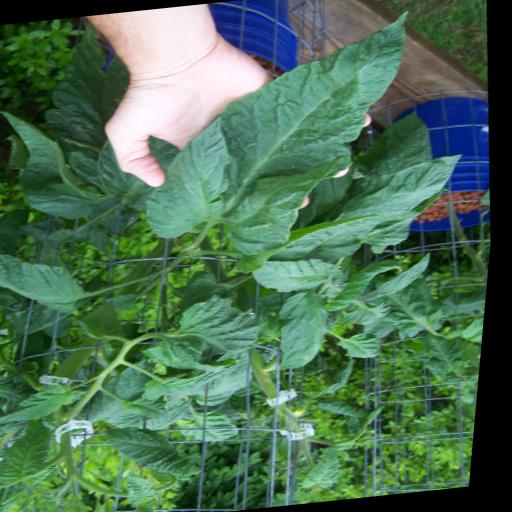Healthy: (125, 10, 430, 262), (289, 152, 472, 254), (0, 100, 117, 228), (268, 280, 339, 370), (0, 246, 89, 314), (175, 298, 266, 354), (244, 248, 350, 292), (0, 380, 86, 432), (339, 331, 395, 364)
